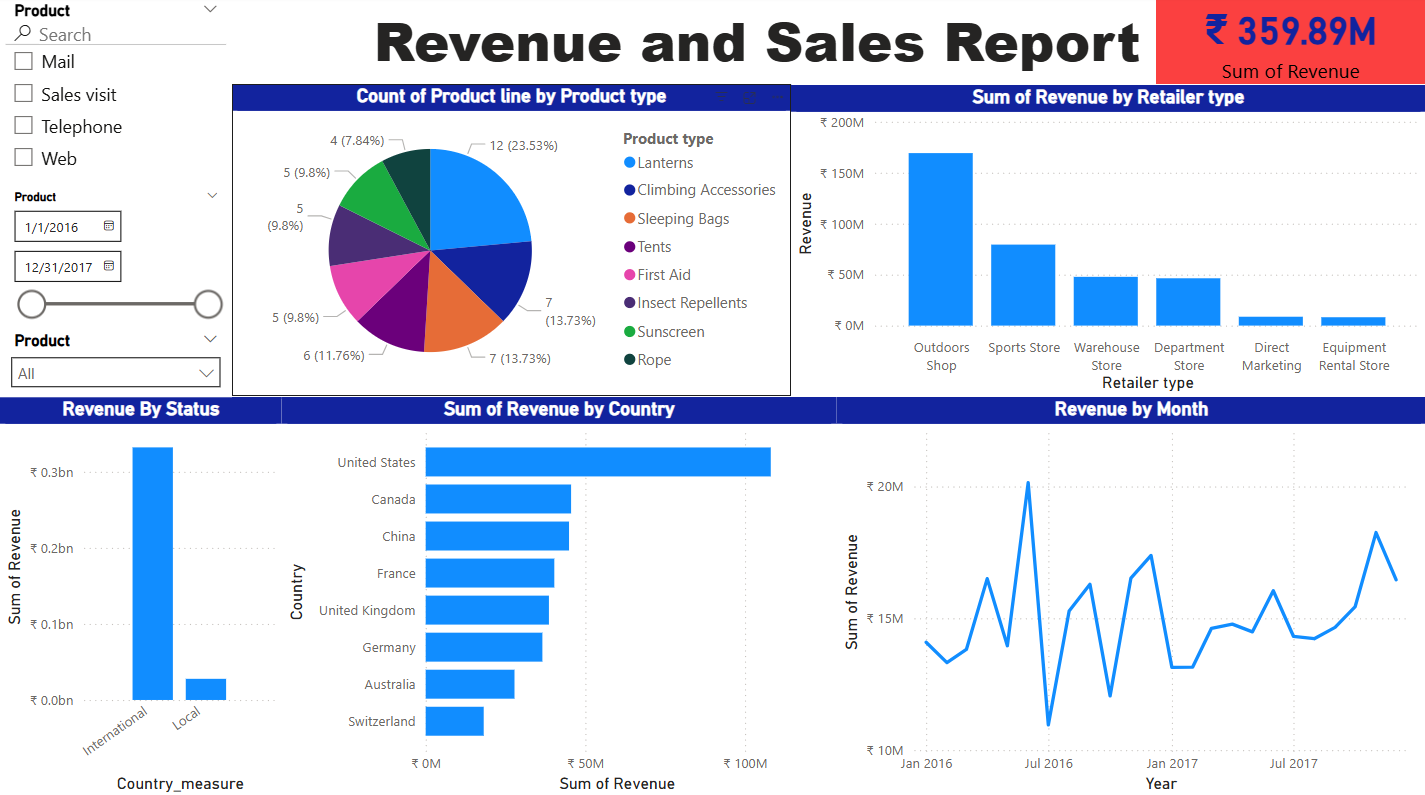

What the dashboard file says about the page in this screenshot:
{"tool":"powerbi","page":{"name":"Page 1","canvas":[1280,720],"ordinal":0},"visuals":[{"type":"pieChart","fields":{"Y":["CountNonNull(Product Table.Product line)"],"Category":["Product Table.Product type"]},"box":[208,79,502,280],"z":0},{"type":"columnChart","fields":{"Category":["Sales Table.Retailer type"],"Y":["Sum(Sales Table.Revenue)"]},"box":[710,80,570,280],"z":1000},{"type":"barChart","fields":{"Category":["Country Table.Country "],"Y":["Sum(Sales Table.Revenue)"]},"box":[253,360,498,360],"z":2000},{"type":"lineChart","title":"Revenue by Month","fields":{"Category":["Sales Table.Date.Variation.Date Hierarchy.Year","Sales Table.Date.Variation.Date Hierarchy.Month"],"Y":["Sum(Sales Table.Revenue)"]},"box":[751,360,529,360],"z":3000},{"type":"clusteredColumnChart","title":"Revenue By Status","fields":{"Y":["Sum(Sales Table.Revenue)"],"Category":["Sales Table.Country_measure"]},"box":[0,360,253,360],"z":4000},{"type":"slicer","fields":{"Values":["Product Table.Product type"]},"box":[0,296,208,64],"z":5000},{"type":"slicer","fields":{"Values":["Sales Table.Date"]},"box":[0,169,208,127],"z":6000},{"type":"slicer","fields":{"Values":["Sales Table.Order method type"]},"box":[0,0,208,169],"z":7000},{"type":"textbox","box":[208,0,943,79],"z":8000},{"type":"card","fields":{"Values":["Sum(Sales Table.Revenue)"]},"box":[1038,0,242,79],"z":9000}]}

Visuals, with their boxes on the page's 1280x720 design canvas (x1, y1, x2, y2). These are canvas units, not pixel positions in the 1425x795 screenshot, which may show the page scaled, cropped or inside an application window:
pieChart - CountNonNull(Product Table.Product line) x Product Table.Product type: box(208, 79, 710, 359)
columnChart - Sales Table.Retailer type x Sum(Sales Table.Revenue): box(710, 80, 1280, 360)
barChart - Country Table.Country  x Sum(Sales Table.Revenue): box(253, 360, 751, 720)
"Revenue by Month" lineChart: box(751, 360, 1280, 720)
"Revenue By Status" clusteredColumnChart: box(0, 360, 253, 720)
slicer - Product Table.Product type: box(0, 296, 208, 360)
slicer - Sales Table.Date: box(0, 169, 208, 296)
slicer - Sales Table.Order method type: box(0, 0, 208, 169)
textbox: box(208, 0, 1151, 79)
card - Sum(Sales Table.Revenue): box(1038, 0, 1280, 79)
